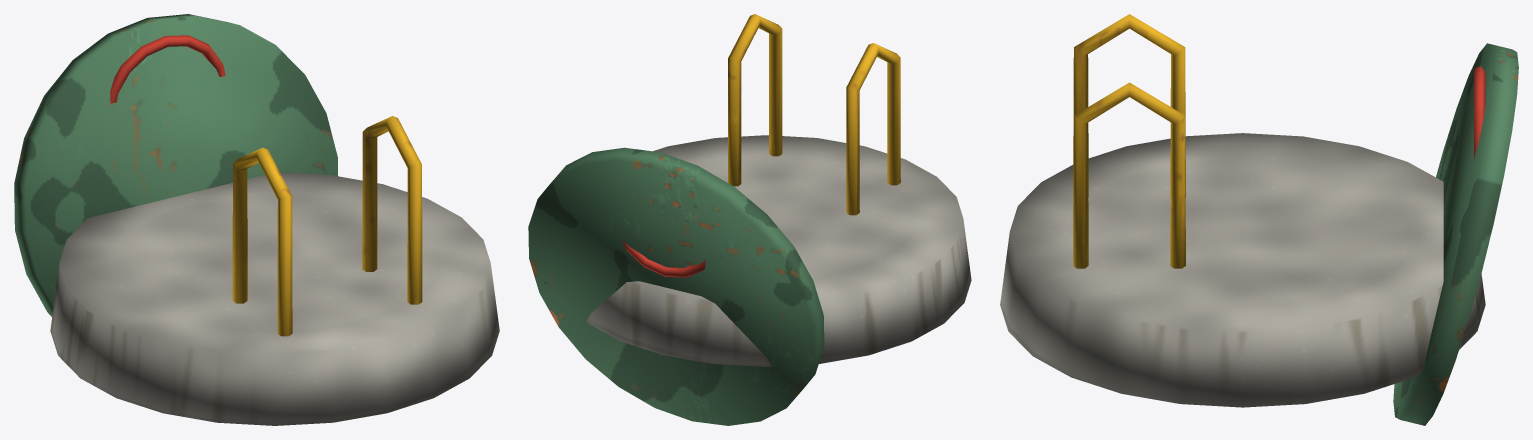
The model's file is bunker_hatch.glb.
The picture shows the model from 3 angles, left to right: view 1: azimuth 30°, elevation 25°; view 2: azimuth 150°, elevation 25°; view 3: azimuth 270°, elevation 25°; orthographic projection. The views are drawn at different scales.
Visible parts, largest first — view 1: Hatch; view 2: Hatch; view 3: Hatch.
Boxes of the visible parts, <box> form: Hatch: <box>14,14,499,425</box>; Hatch: <box>528,14,971,425</box>; Hatch: <box>1000,14,1518,425</box>.
Size of the model in its own units: 1.5 by 1.23 by 1.6.
Materials: 1 (1 with a texture image).
